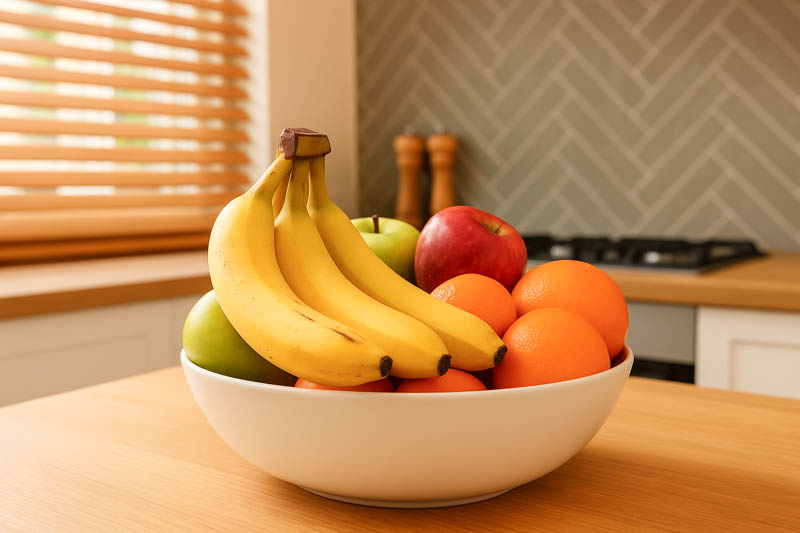banana: (200, 123, 514, 387)
